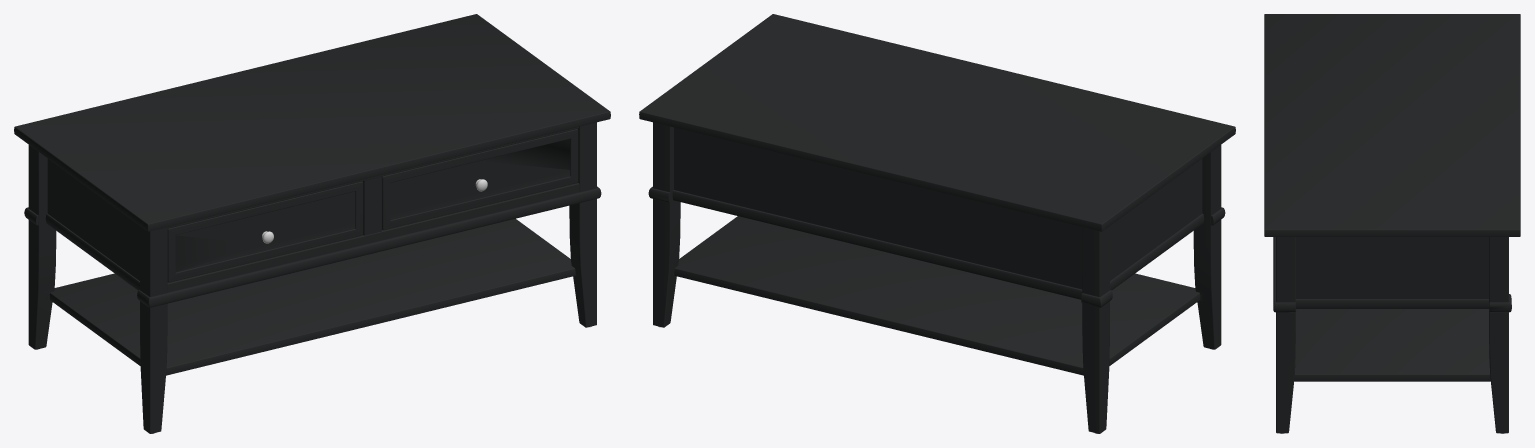
The picture shows the model from 3 angles, left to right: view 1: azimuth 30°, elevation 25°; view 2: azimuth 150°, elevation 25°; view 3: azimuth 270°, elevation 25°; orthographic projection. The views are drawn at different scales.
Parts seen in each view (by area): view 1: RootNode; view 2: RootNode; view 3: RootNode.
Boxes of the visible parts, x1,y1,x2,y2 form: RootNode: (14, 14, 610, 433); RootNode: (639, 14, 1235, 433); RootNode: (1264, 14, 1520, 433).
Size of the model in its own units: 1.04 by 0.4699 by 0.5232.
Materials: 1 (1 with a texture image).
